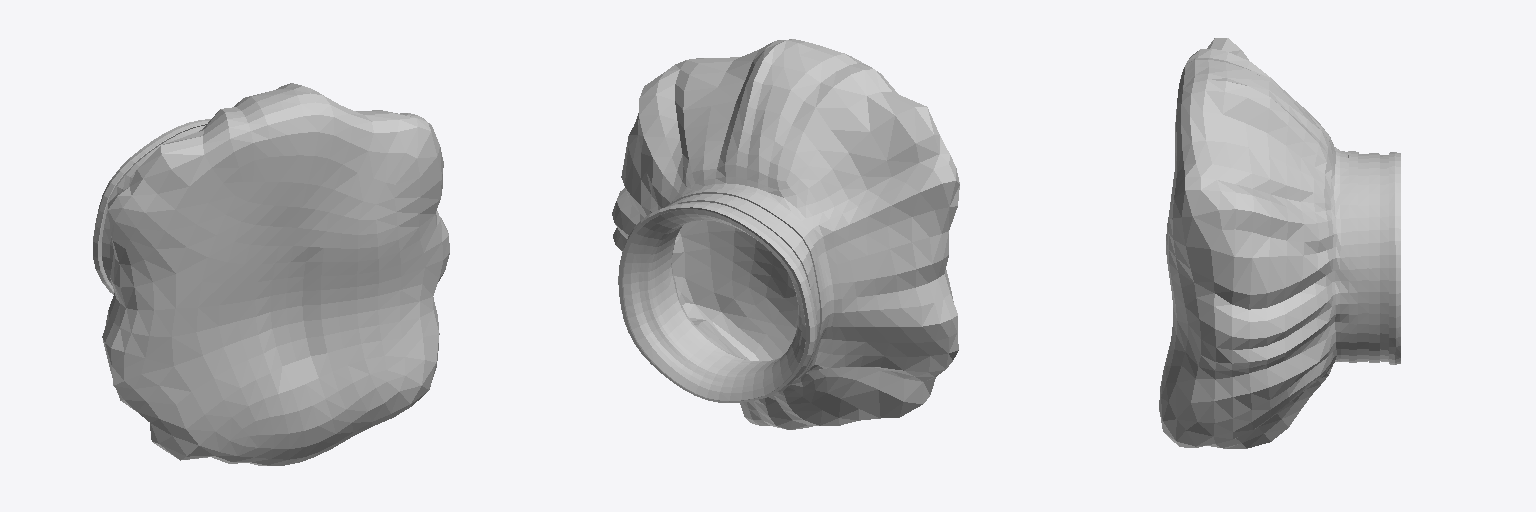
File: SombreroBufford.obj
The picture shows the model from 3 angles: view 1: azimuth 30°, elevation 25°; view 2: azimuth 150°, elevation 25°; view 3: azimuth 270°, elevation 25°; orthographic projection.
Visible parts, largest first — view 1: Chef_Hat_default; view 2: Chef_Hat_default; view 3: Chef_Hat_default.
Boxes of the visible parts, <box> form: Chef_Hat_default: <box>93,83,449,465</box>; Chef_Hat_default: <box>612,39,959,429</box>; Chef_Hat_default: <box>1159,38,1400,448</box>.
Bounding box in the file's own units: 0.926 × 0.9764 × 0.5782.